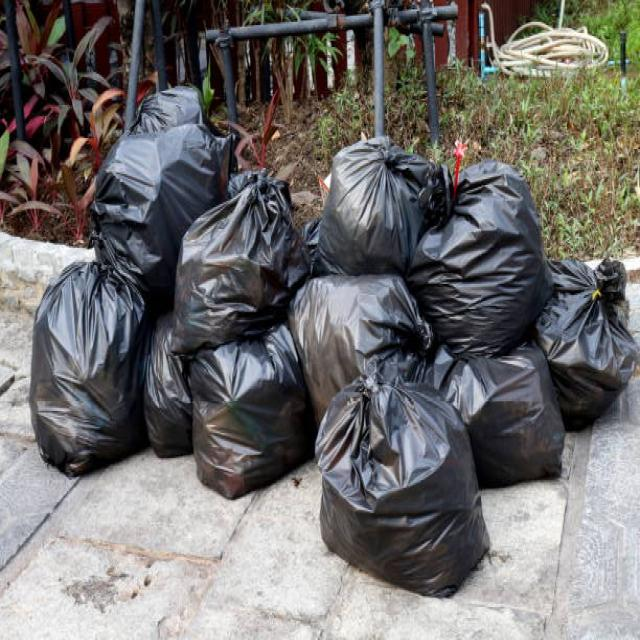sampah-detection: (312, 369, 492, 604), (26, 248, 152, 483), (86, 85, 230, 290), (416, 161, 548, 360), (165, 164, 306, 340), (179, 328, 313, 511), (291, 260, 444, 410), (540, 244, 640, 434), (445, 348, 566, 498), (315, 134, 434, 284)
